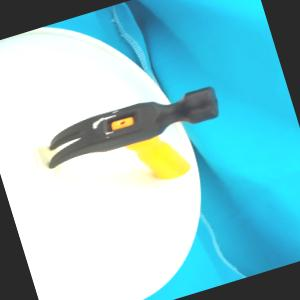martelo: (38, 79, 237, 213)
